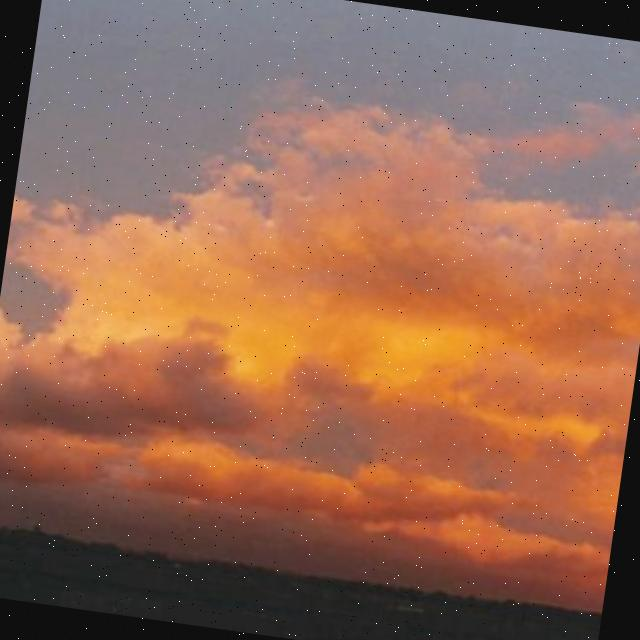Sc: (1, 16, 640, 551)
